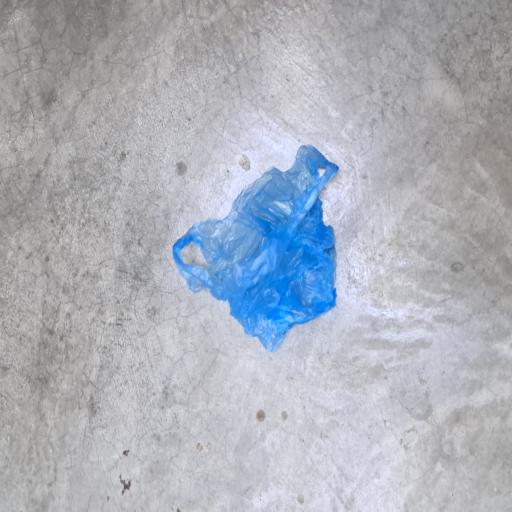plastic bag: (118, 228, 276, 456)
